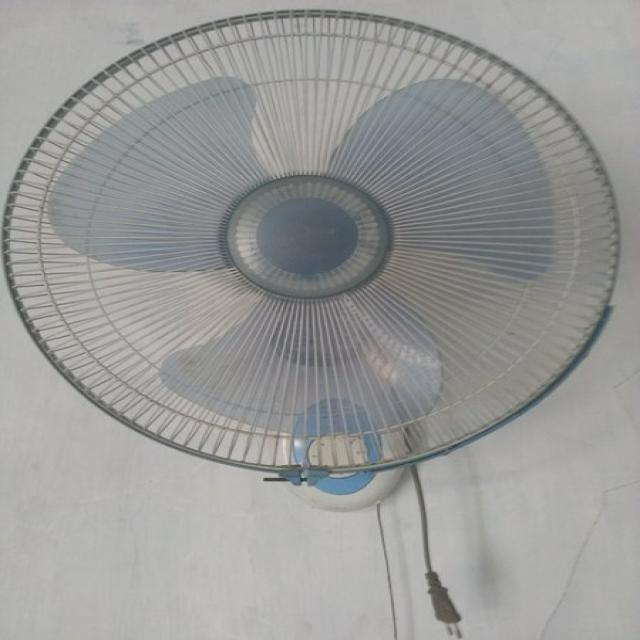fan: (1, 0, 622, 512)
